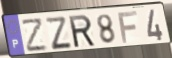4: (146, 8, 165, 42)
8: (96, 13, 117, 44)
F: (117, 10, 139, 45)
R: (67, 14, 97, 50)
Z: (44, 16, 74, 51), (21, 16, 49, 53)
